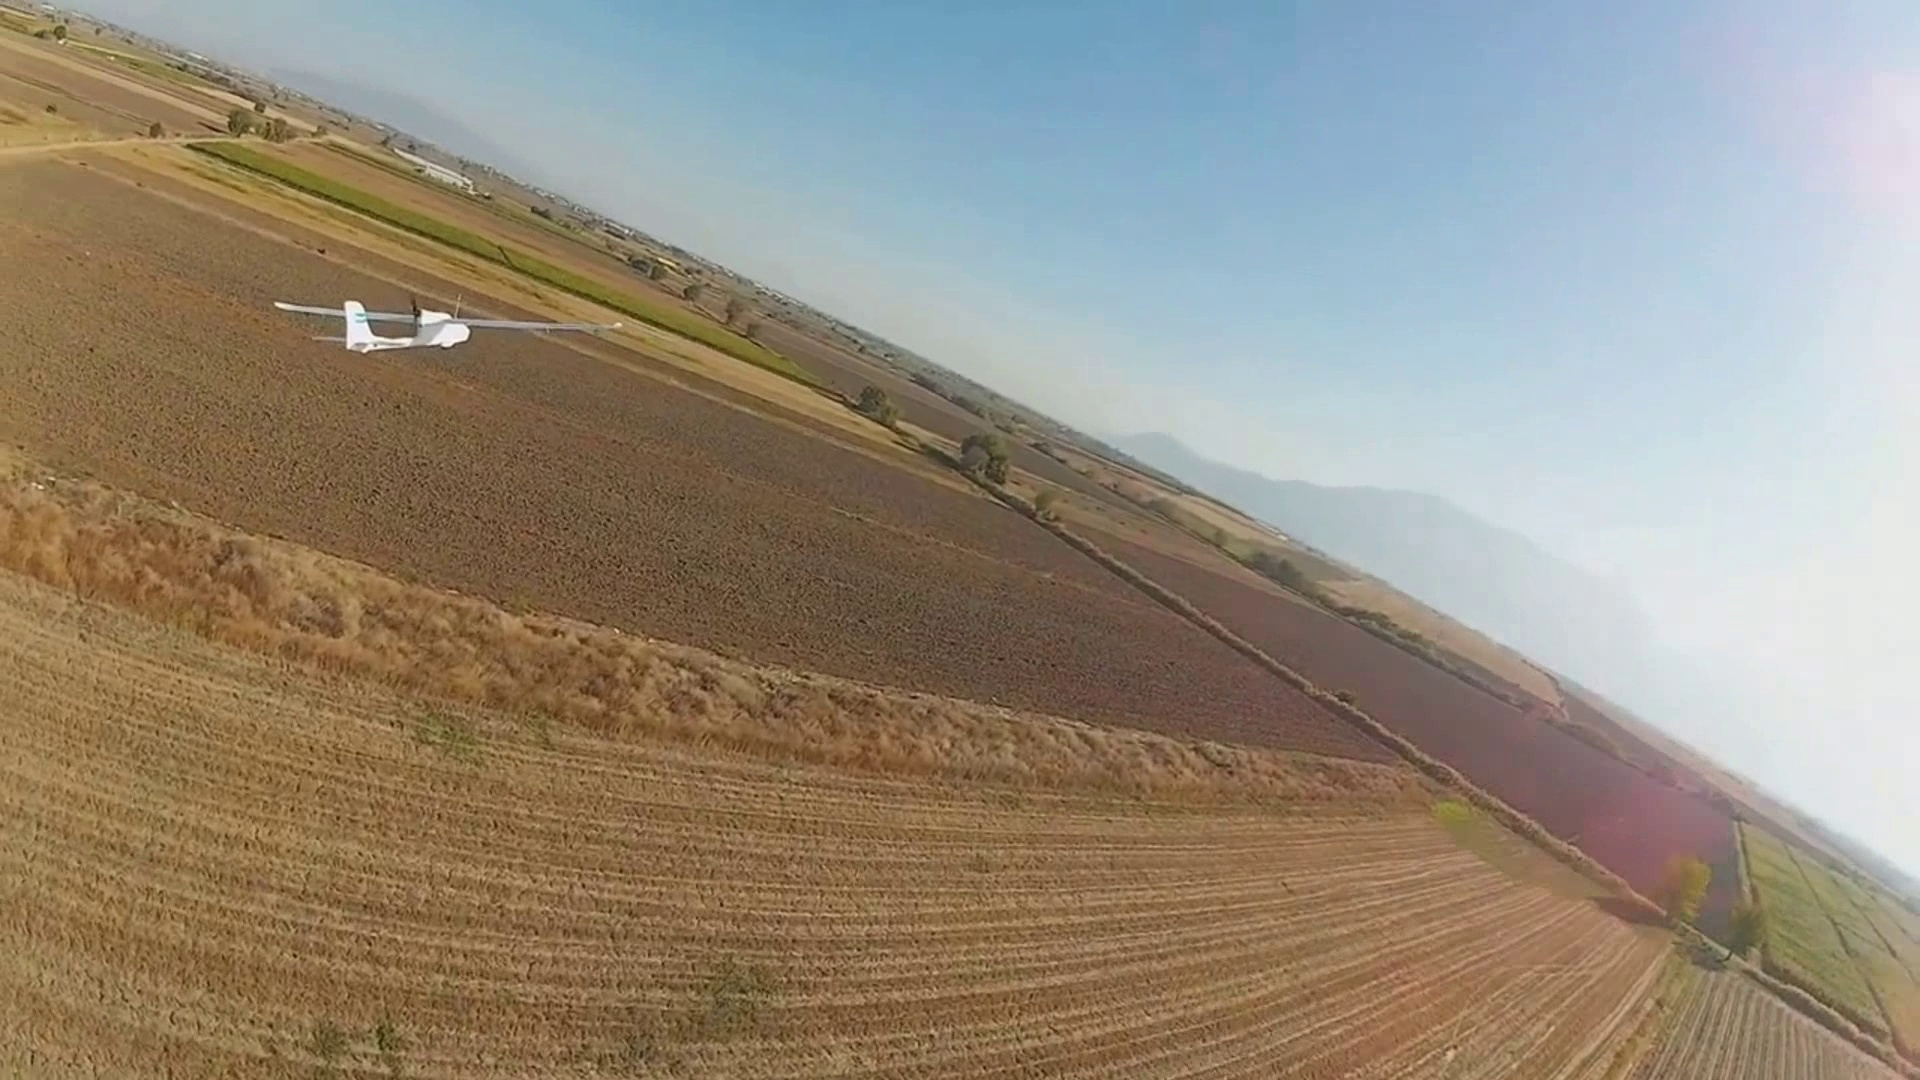airplane: (272, 297, 472, 353)
